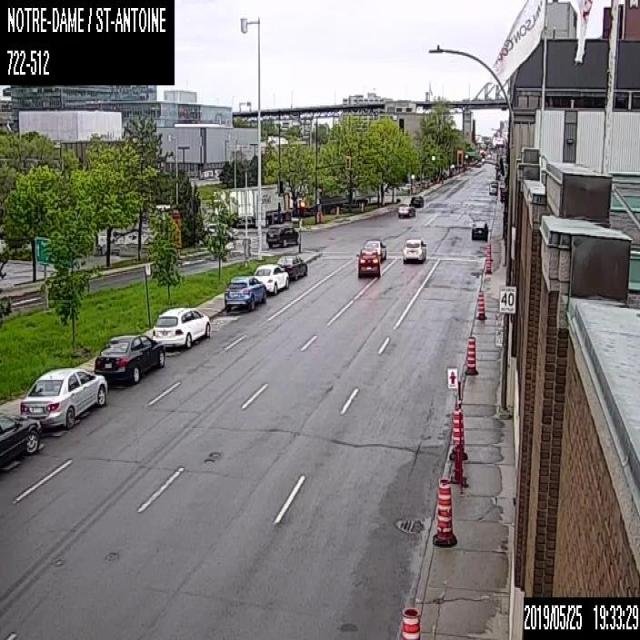construction: (433, 478, 455, 546), (448, 404, 466, 457), (401, 605, 421, 639), (465, 336, 477, 373), (476, 291, 486, 317), (484, 243, 491, 273)
vehicle: (19, 367, 107, 428), (93, 332, 165, 382), (236, 180, 300, 226), (151, 304, 211, 347), (0, 411, 40, 468), (224, 274, 265, 310), (252, 262, 288, 294), (276, 252, 306, 280), (266, 222, 299, 246), (355, 247, 381, 277), (402, 237, 427, 263), (363, 238, 386, 261), (471, 218, 487, 240), (397, 203, 415, 218), (410, 194, 423, 207), (488, 182, 497, 194)
